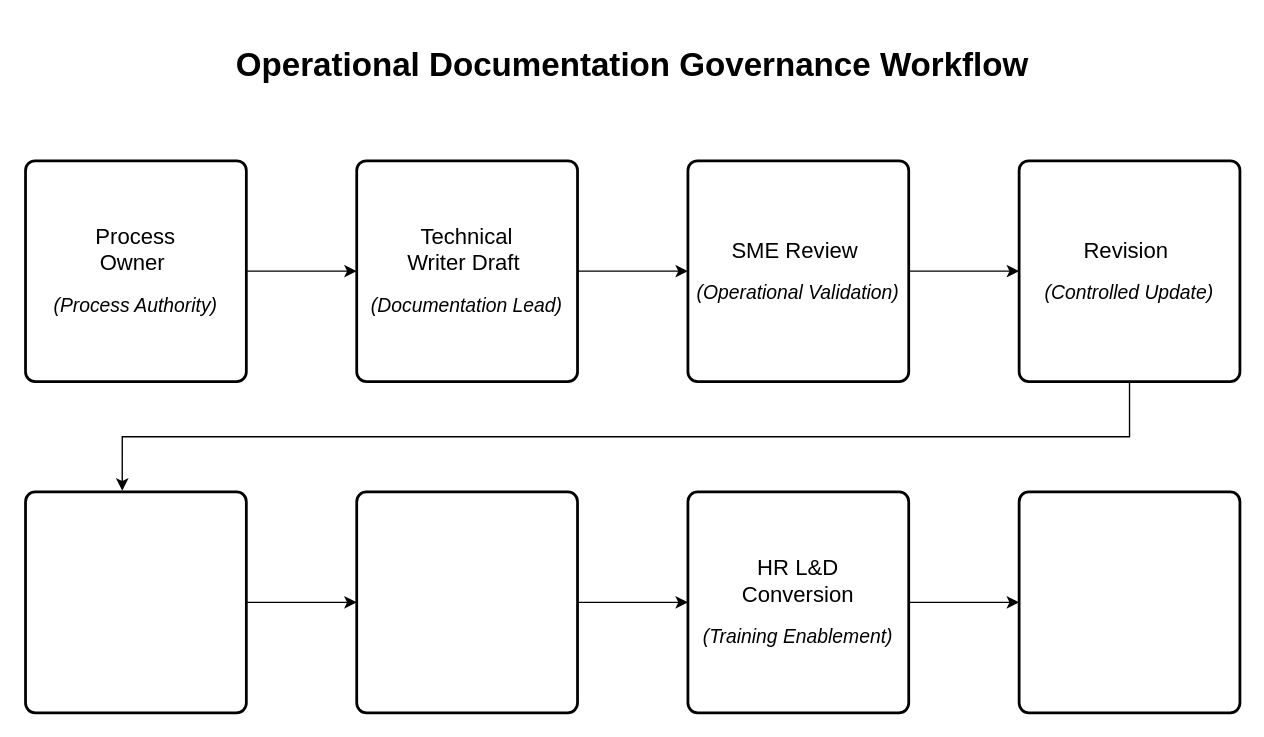
The diagram is 1264 pixels wide and 737 high, and some of its shapes have lost their labels. Each missing label, with the centre of its shape:
"Company Rollout (Enterprise Adoption)" goes at (x=1129, y=601).
"Executive Approval (Executive Governance)" goes at (x=135, y=601).
"SharePoint Publication (Document Control)" goes at (x=466, y=601).
